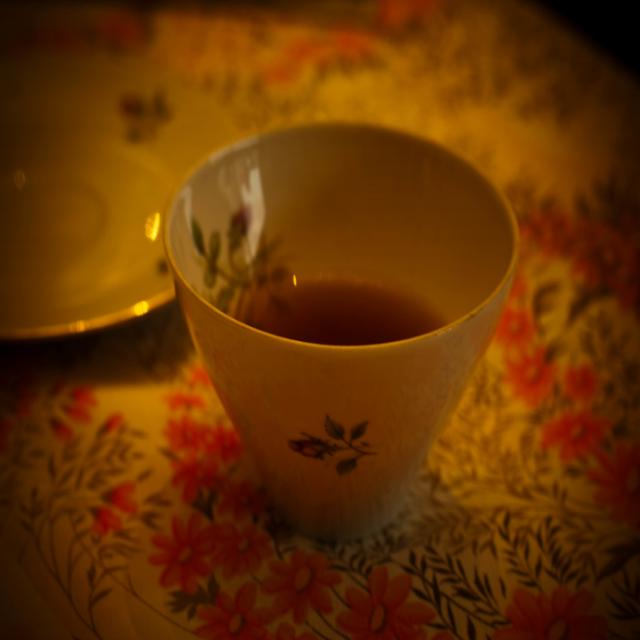Tea: (232, 267, 452, 346)
